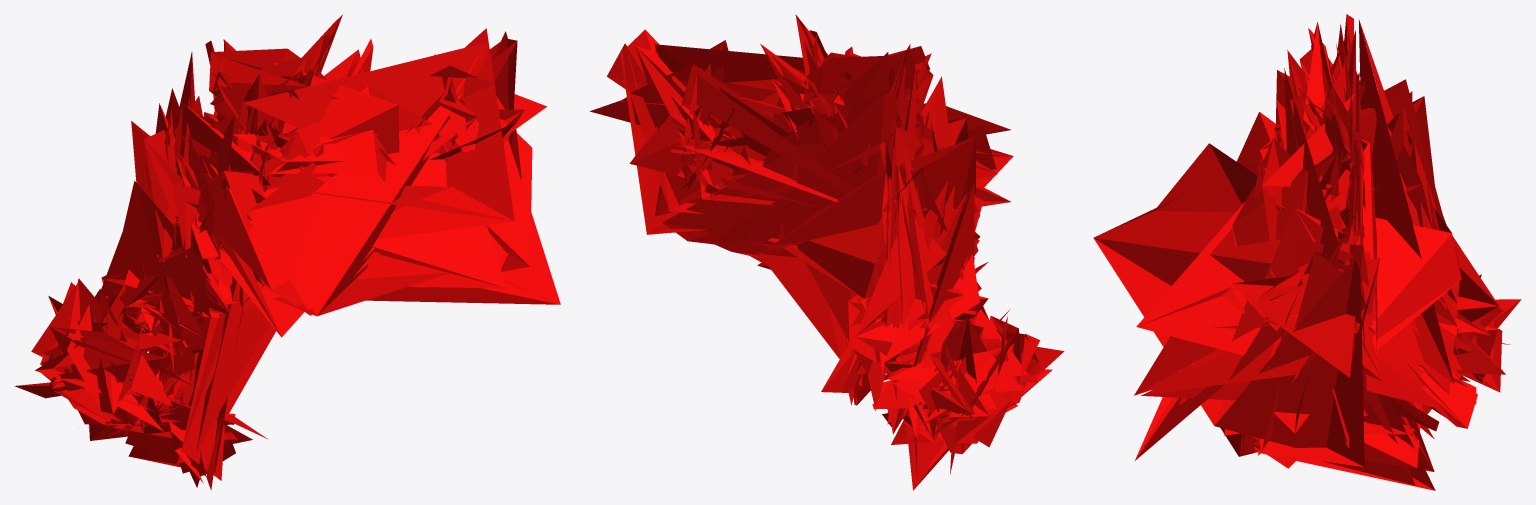
3 views of the same model, side by side, from view 1: azimuth 30°, elevation 25°; view 2: azimuth 150°, elevation 25°; view 3: azimuth 270°, elevation 25° (orthographic). The views are drawn at different scales.
Parts seen in each view (by area): view 1: Renderer Node; view 2: Renderer Node; view 3: Renderer Node.
Part boxes in pixels (<box>): Renderer Node: <box>14,14,560,490</box>; Renderer Node: <box>590,14,1064,490</box>; Renderer Node: <box>1093,14,1521,490</box>.
Bounding box in the file's own units: 0.93 × 0.7781 × 0.6015.
Materials: 1 (1 with a texture image).
